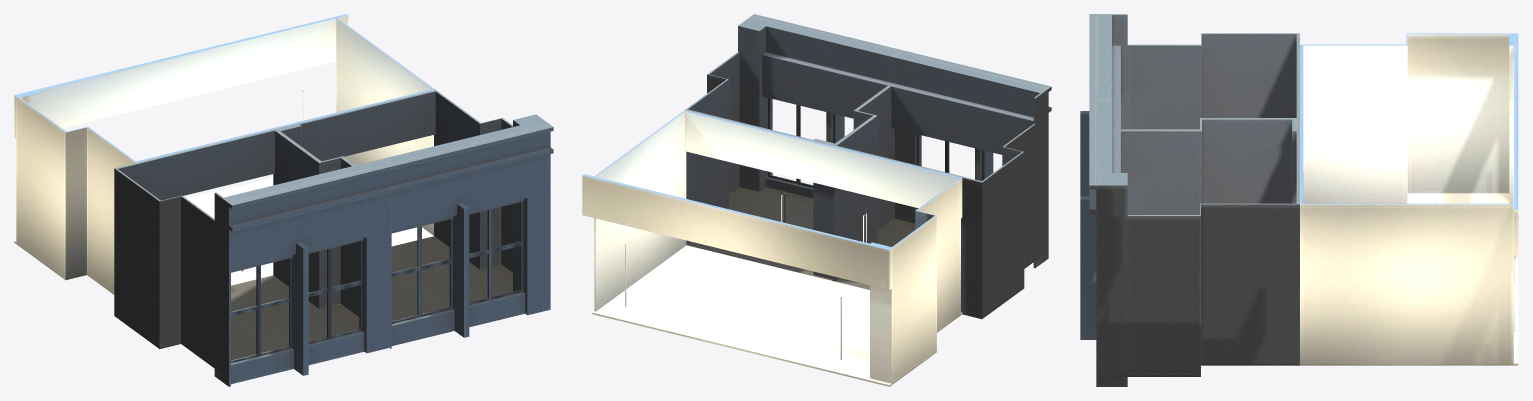
3 renders of one model, left to right at view 1: azimuth 30°, elevation 25°; view 2: azimuth 150°, elevation 25°; view 3: azimuth 270°, elevation 25°, orthographic. The views are drawn at different scales.
Visible parts, largest first — view 1: hc_2floor_room024_3, hc_2floor_room001_1, hc_2floor_room023_2; view 2: hc_2floor_room023_2, hc_2floor_room024_3, hc_2floor_room001_1; view 3: hc_2floor_room023_2, hc_2floor_room001_1, hc_2floor_room024_3.
Boxes of the visible parts, x1,y1,x2,y2 form: hc_2floor_room024_3: (114,129,392,386); hc_2floor_room001_1: (275,90,553,348); hc_2floor_room023_2: (14,14,435,294); hc_2floor_room023_2: (582,110,962,386); hc_2floor_room024_3: (833,50,1051,318); hc_2floor_room001_1: (685,14,902,280); hc_2floor_room023_2: (1299,33,1518,365); hc_2floor_room001_1: (1080,99,1299,386); hc_2floor_room024_3: (1080,14,1299,196).
Size of the model in its own units: 0.96 by 0.4943 by 0.9728.
3 materials, 3 textured.
